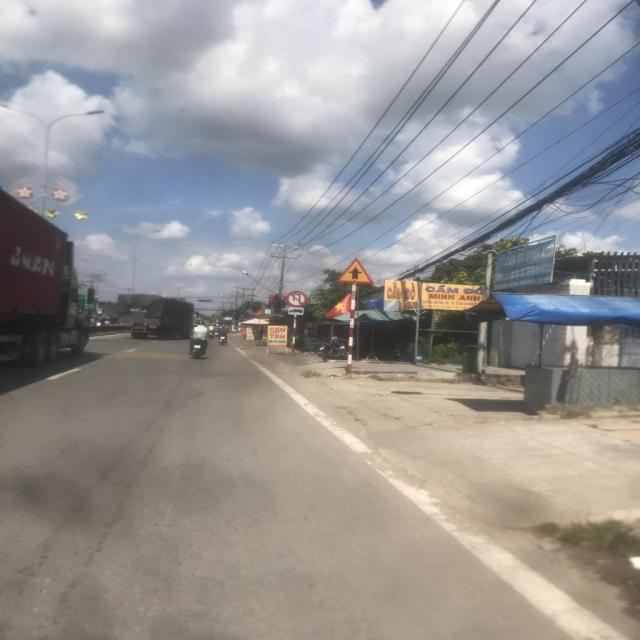cam_quay_dau_xe: (285, 290, 310, 308)
giao_nhau_voi_duong_khong_uu_tien: (335, 257, 375, 286)
khac: (288, 307, 304, 315)
